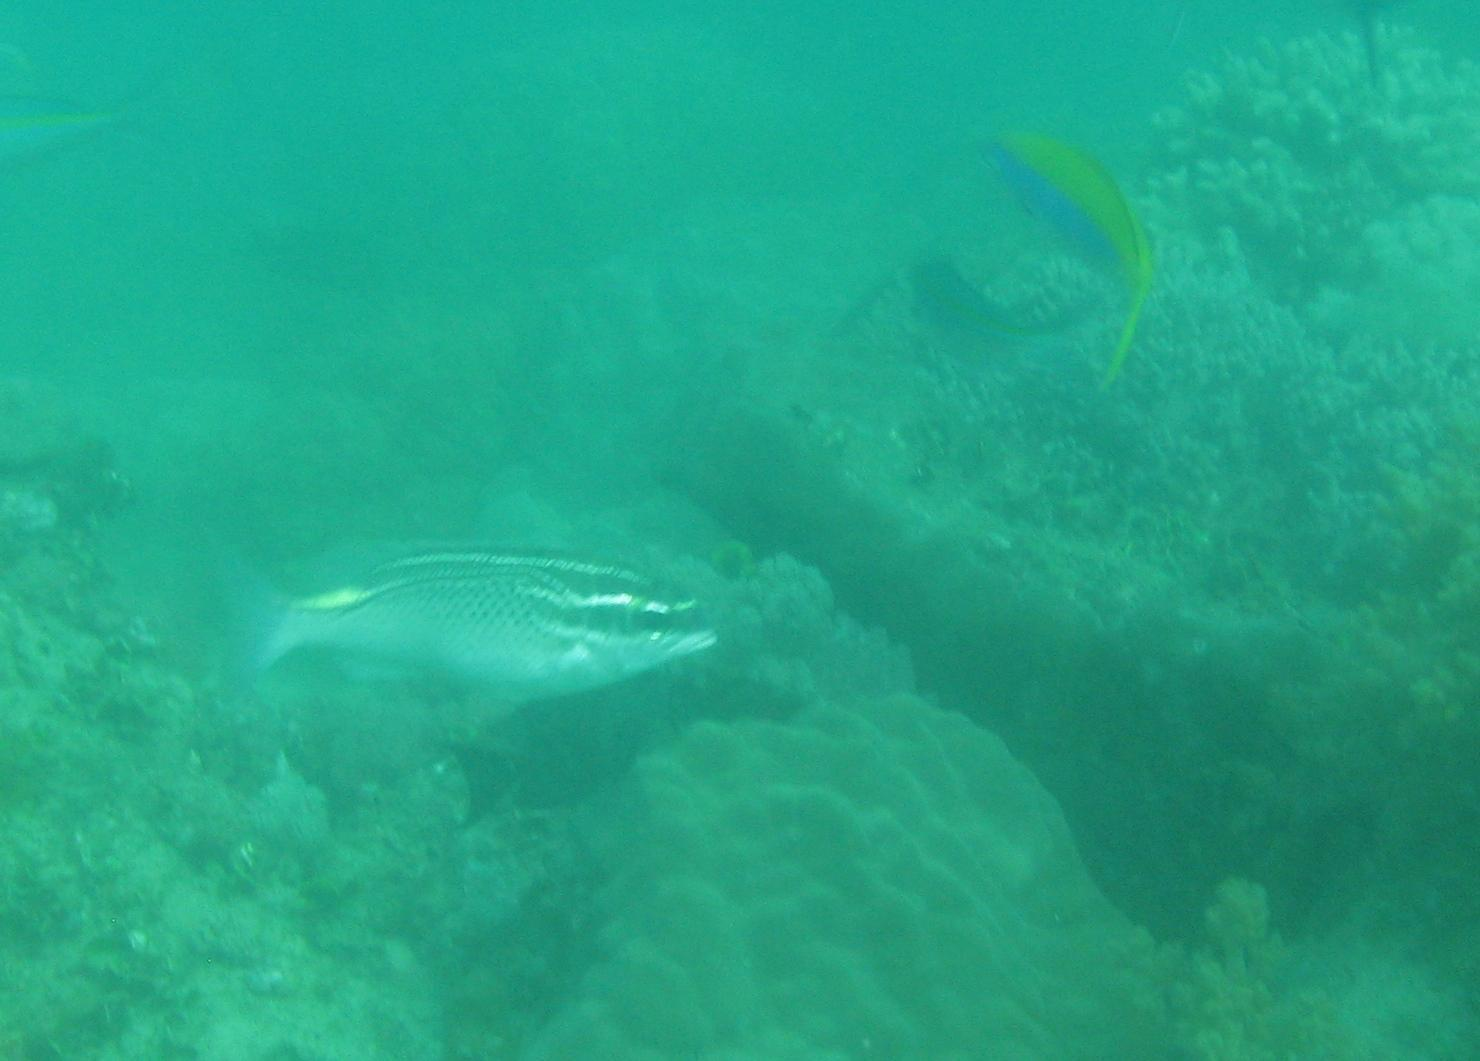Fish: (218, 509, 744, 731)
